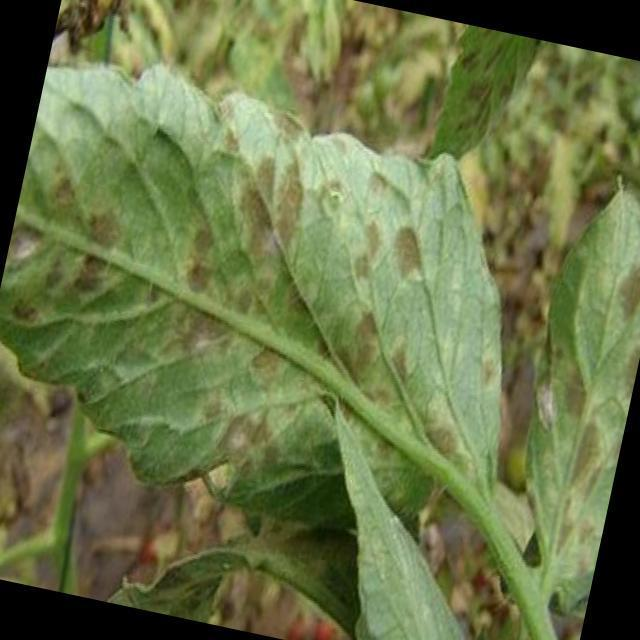Mosaic Virus: (0, 77, 489, 494), (501, 209, 640, 583)
